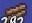wood: (1, 0, 32, 23)
